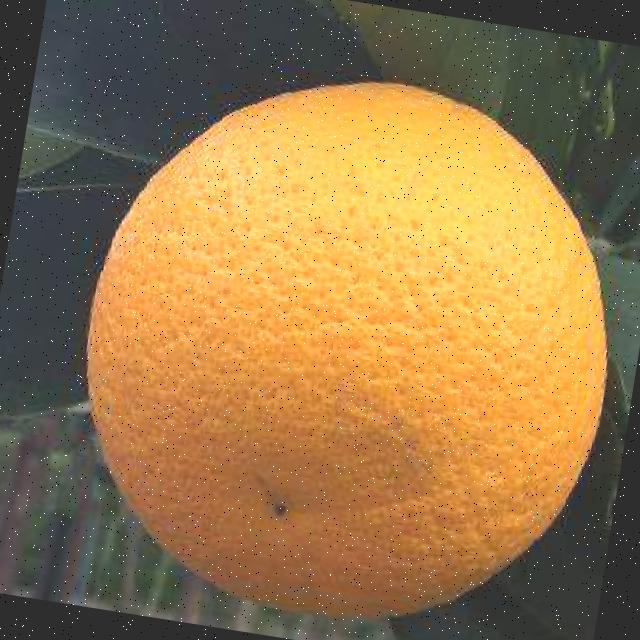orange: (43, 35, 640, 640)
